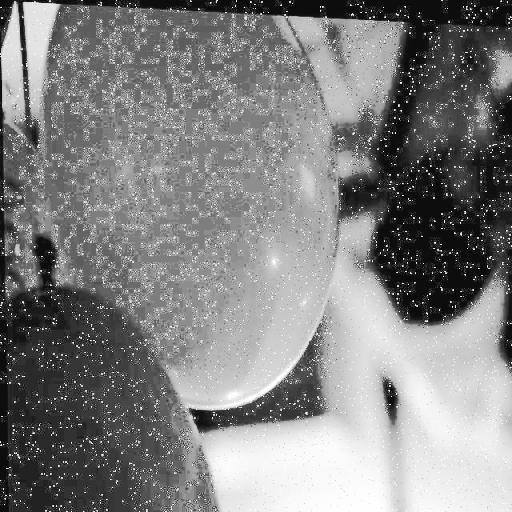balloon: (22, 1, 351, 426), (4, 249, 230, 512)
